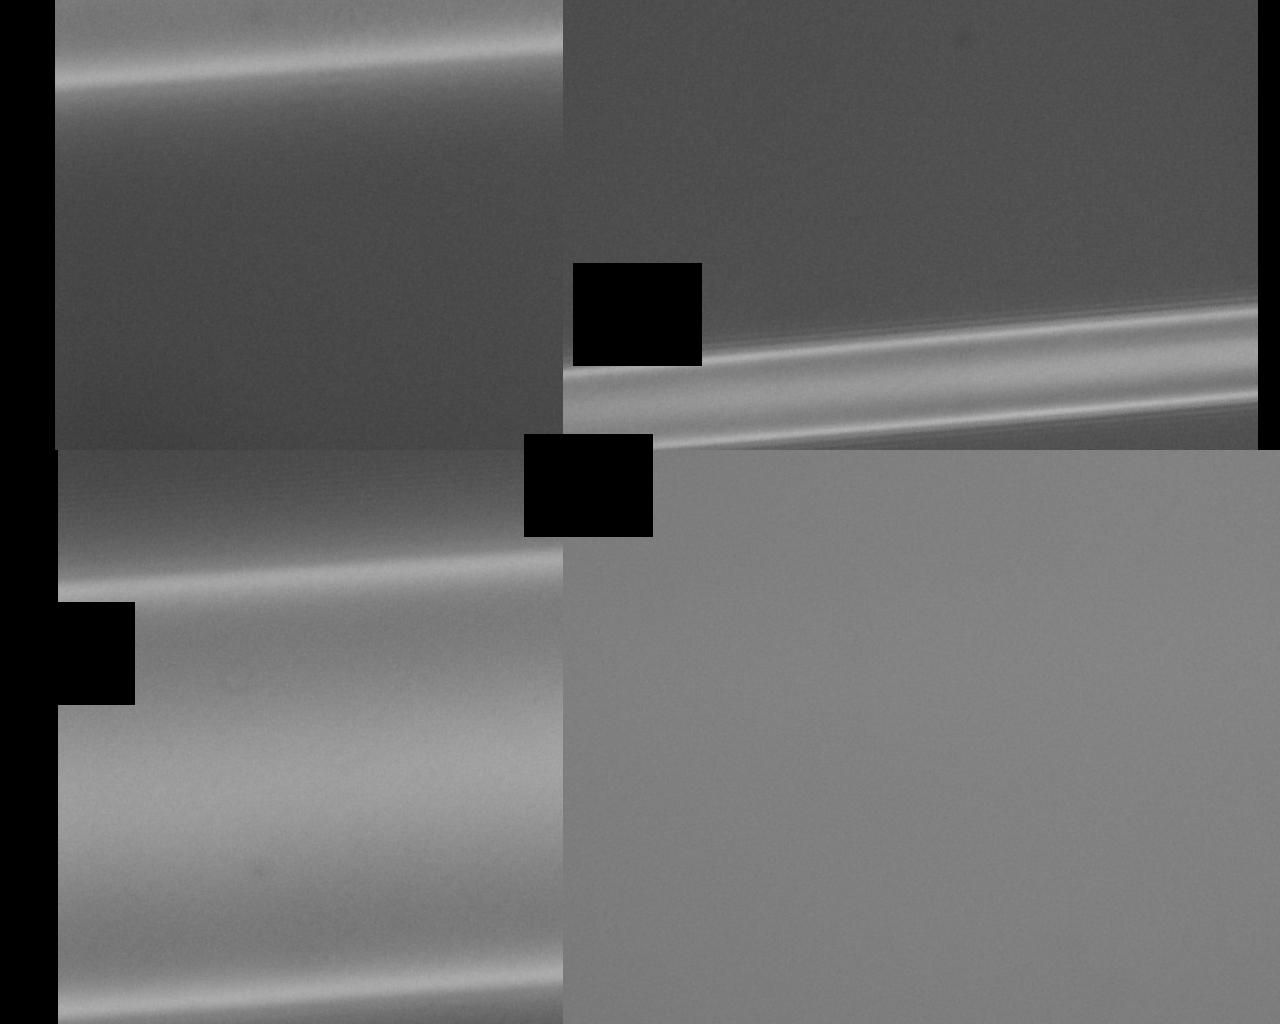fiber: (942, 481, 1280, 1024), (588, 0, 881, 481), (341, 481, 588, 1024), (50, 0, 272, 481)
